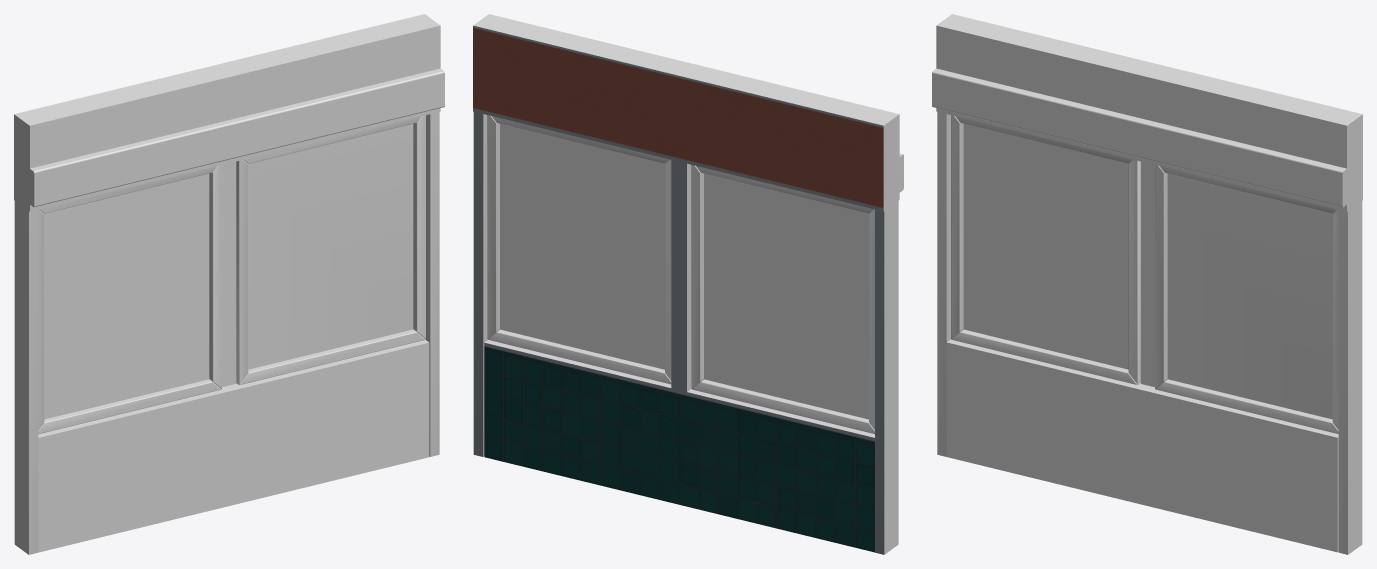
The model's file is SM_Window_Front_03.fbx.
3 renders of one model, left to right at view 1: azimuth 30°, elevation 25°; view 2: azimuth 150°, elevation 25°; view 3: azimuth 330°, elevation 25°, orthographic.
Visible parts, largest first — view 1: SM_Update_Window_Front_03_v001; view 2: SM_Update_Window_Front_03_v001; view 3: SM_Update_Window_Front_03_v001.
Boxes of the visible parts, x1,y1,x2,y2 form: SM_Update_Window_Front_03_v001: (14, 14, 444, 554); SM_Update_Window_Front_03_v001: (473, 14, 903, 554); SM_Update_Window_Front_03_v001: (932, 14, 1362, 554).
Size of the model in its own units: 3 by 3 by 0.2549.
Materials: 3 (1 with a texture image).
